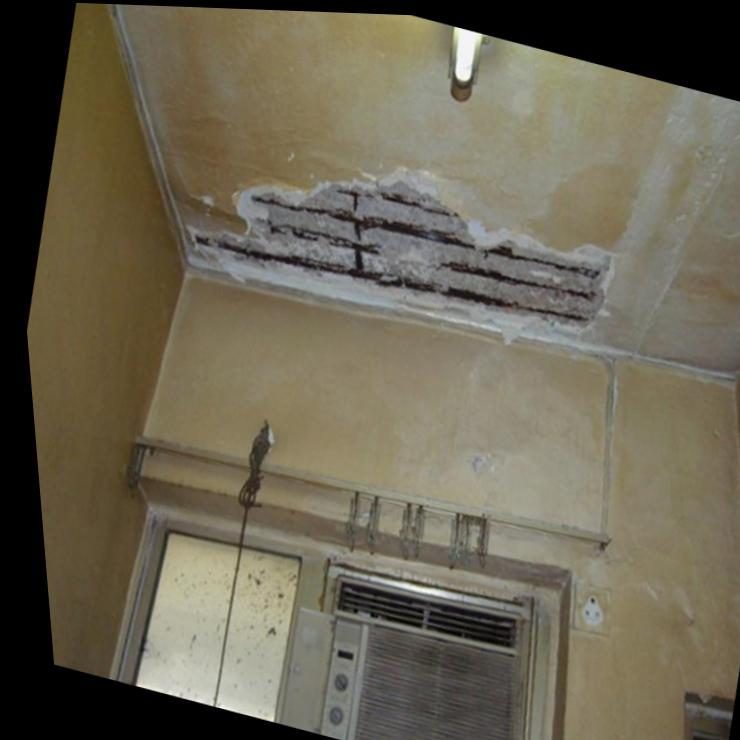damage: (186, 165, 616, 325), (439, 512, 481, 565), (390, 500, 416, 557), (336, 489, 352, 550), (356, 494, 372, 552)
